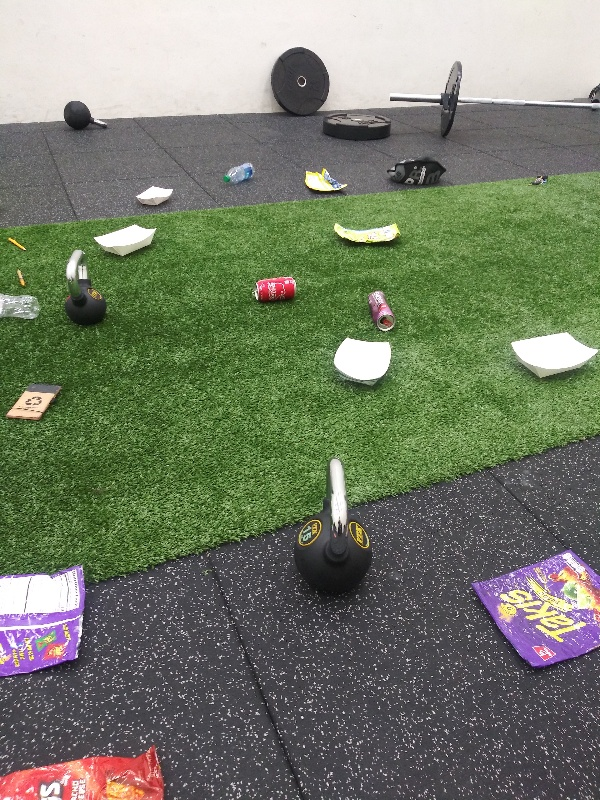bag: (467, 549, 600, 673), (1, 556, 96, 682), (1, 744, 168, 798), (329, 219, 405, 249), (300, 165, 354, 197)
bottle: (1, 287, 40, 323), (219, 160, 256, 186)
can: (363, 288, 401, 335), (249, 274, 300, 306)
plate: (505, 330, 600, 383), (324, 334, 400, 391), (91, 221, 160, 260), (134, 182, 175, 211)
